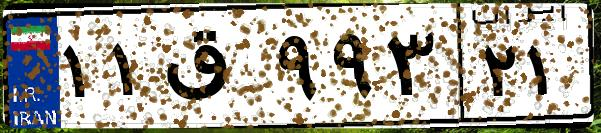1: (57, 26, 110, 100), (525, 38, 570, 115), (110, 28, 158, 98)
2: (475, 38, 525, 113)
3: (385, 28, 445, 110)
9: (270, 28, 330, 110), (330, 28, 385, 110)
ق: (158, 20, 270, 120)
